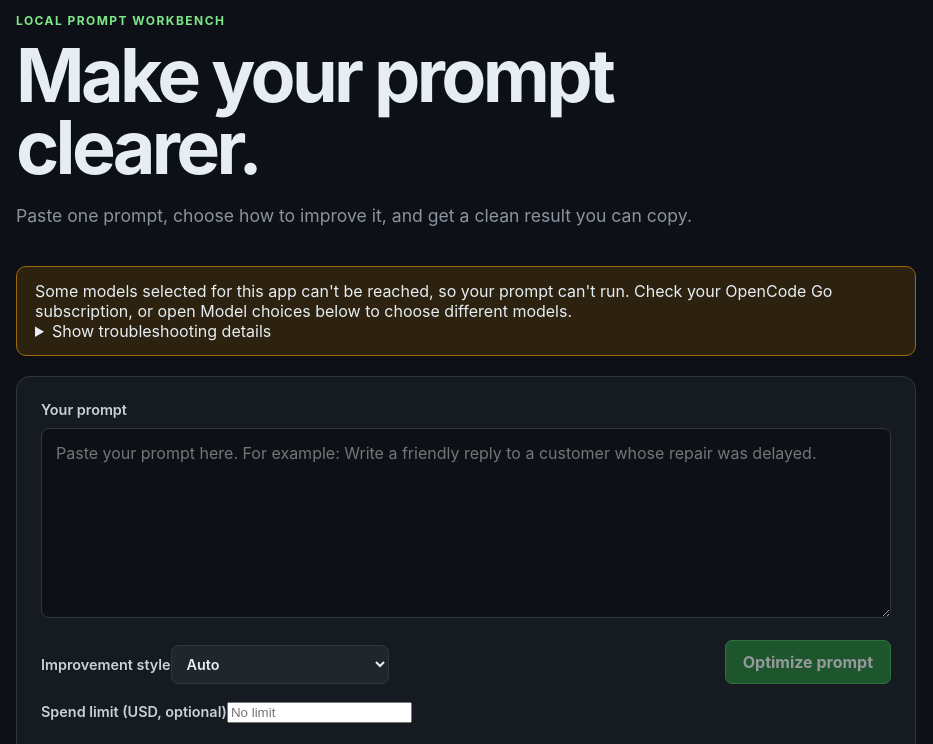
Test case: cues and describes the disabled Optimize prompt button until a prompt is entered
The width and height of the screenshot is (933, 744).
Expected: the button "Optimize prompt" is disabled, [725,640,891,684]
Step 1. Type "Write a note to my neighbour." into the text box labelled "Your prompt" → (466, 523), box [41,428,891,618]
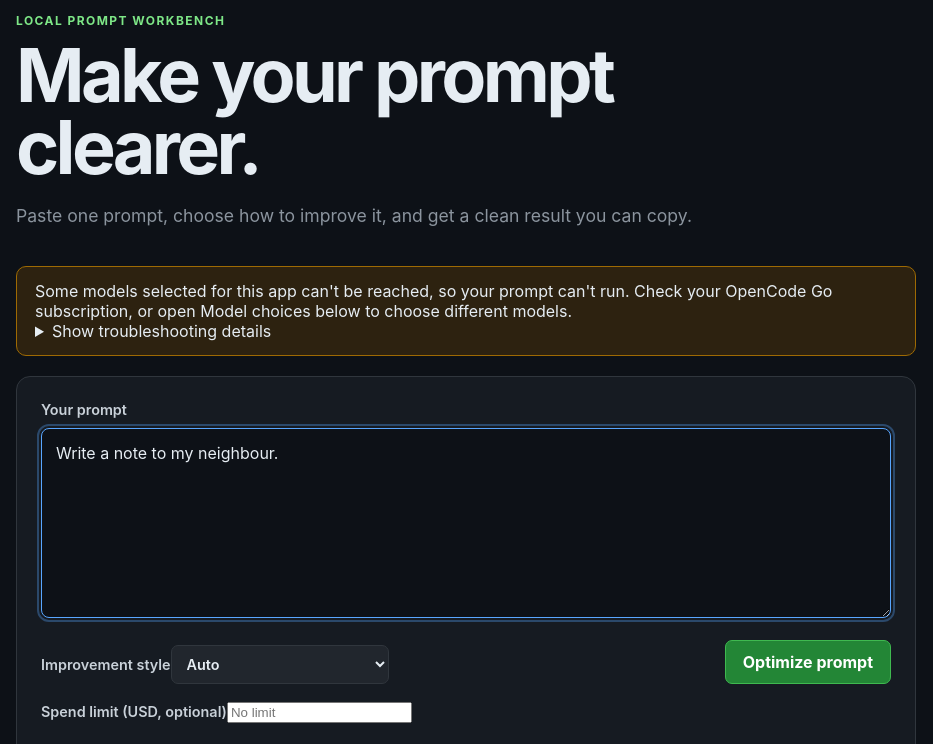
Result: the button "Optimize prompt" is enabled at [725,640,891,684]
